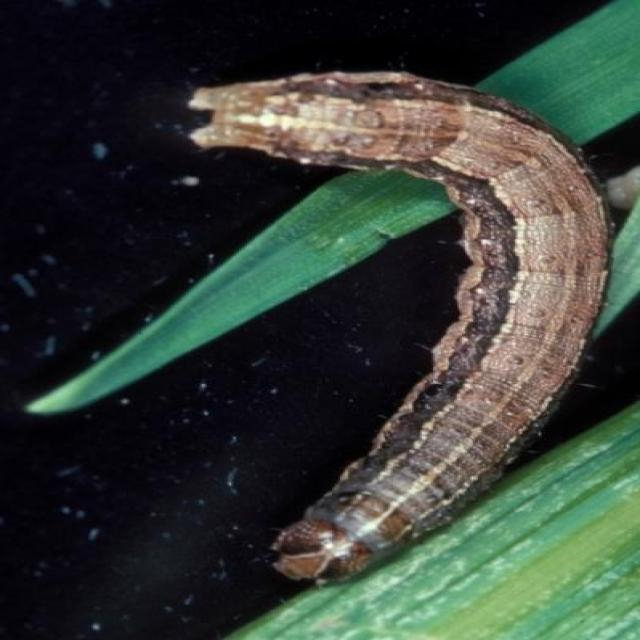army worm: (177, 55, 614, 587)
